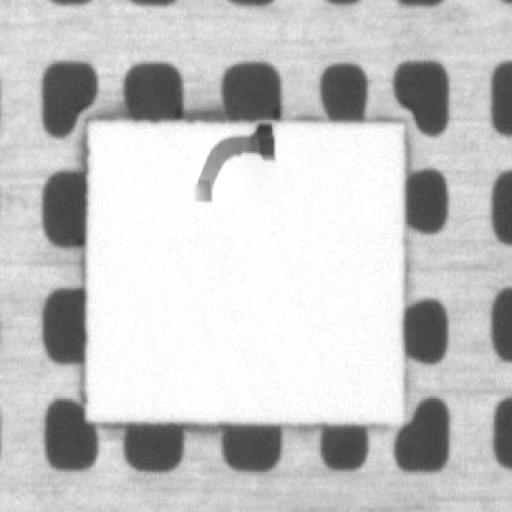DIE_INK: (251, 84, 372, 155)
